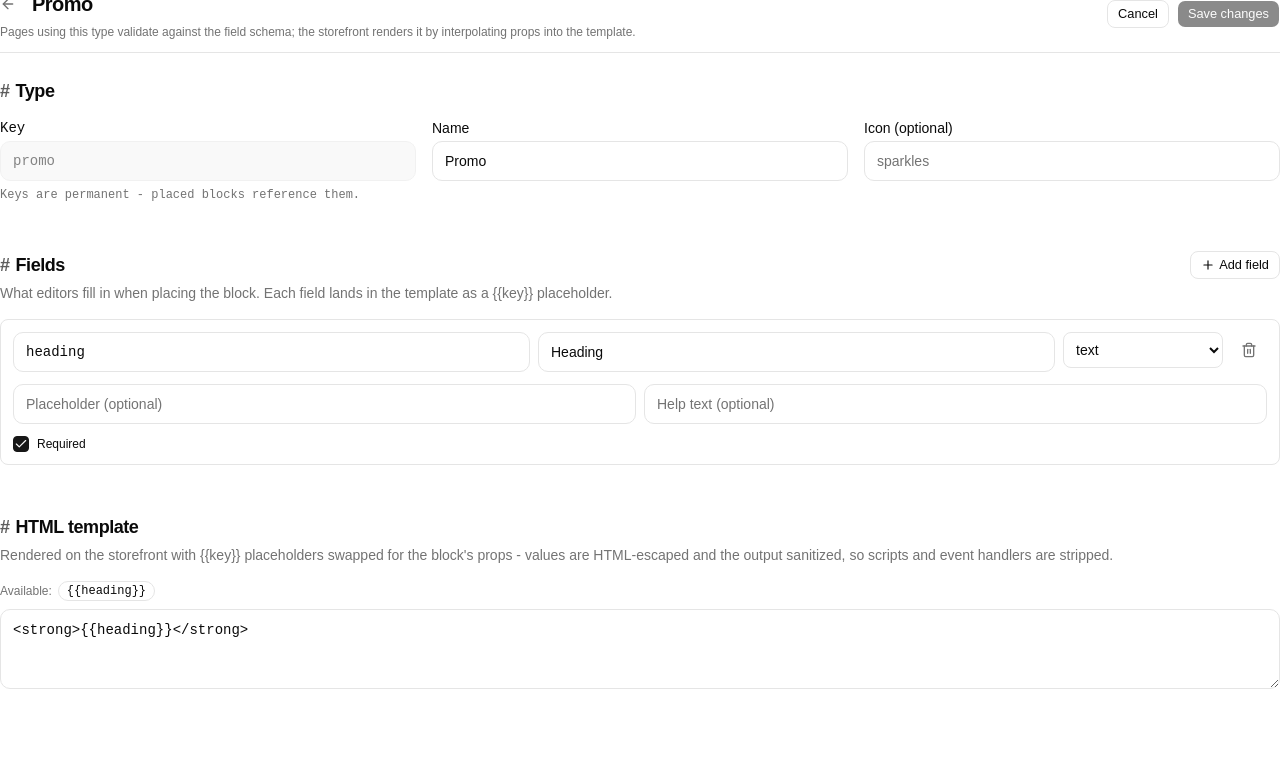
CmsBlockTypeDetail › stops a duplicate field key at the field
The width and height of the screenshot is (1280, 763).
Expected: the field named "Field 1 key" is shown, left=13, top=332, right=530, bottom=372
Click the button "Add field".
click(1235, 265)  # box left=1190, top=251, right=1279, bottom=279
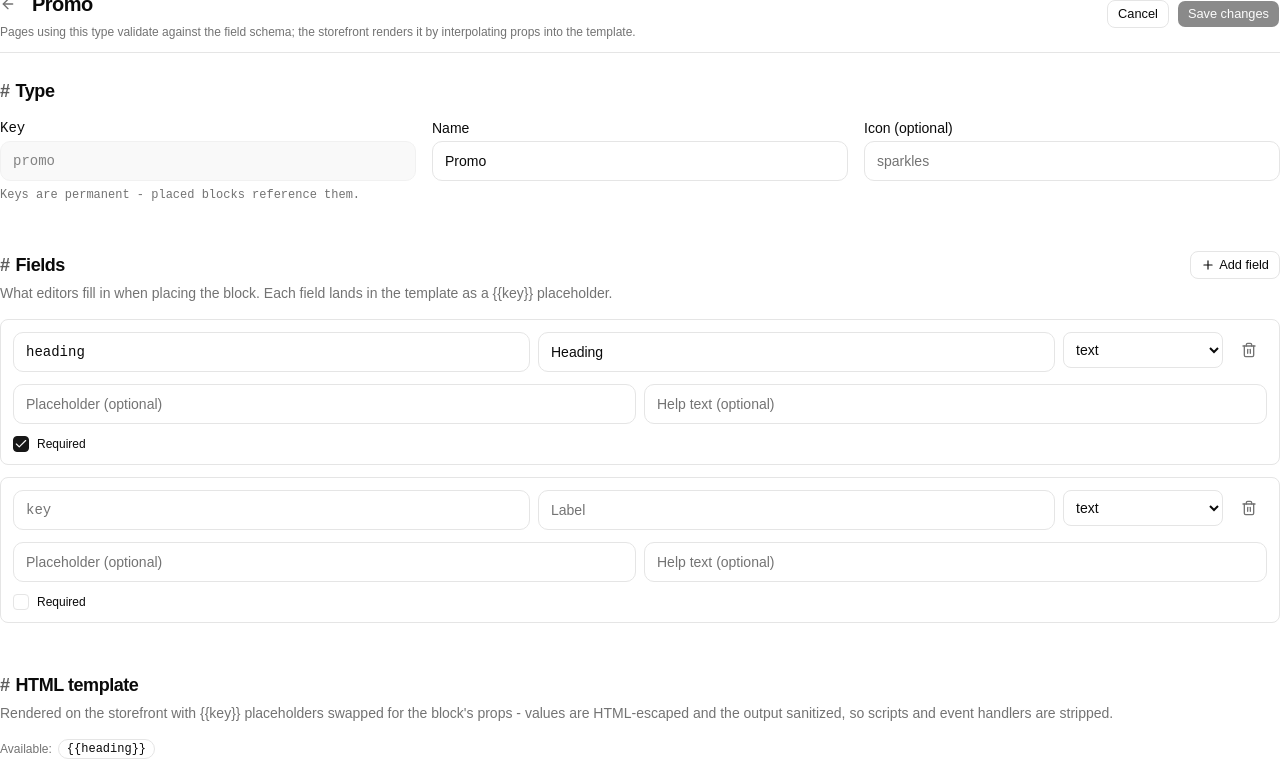
Type "heading" into the field named "Field 2 key".
click(272, 510); type("heading")  # box left=13, top=490, right=530, bottom=530
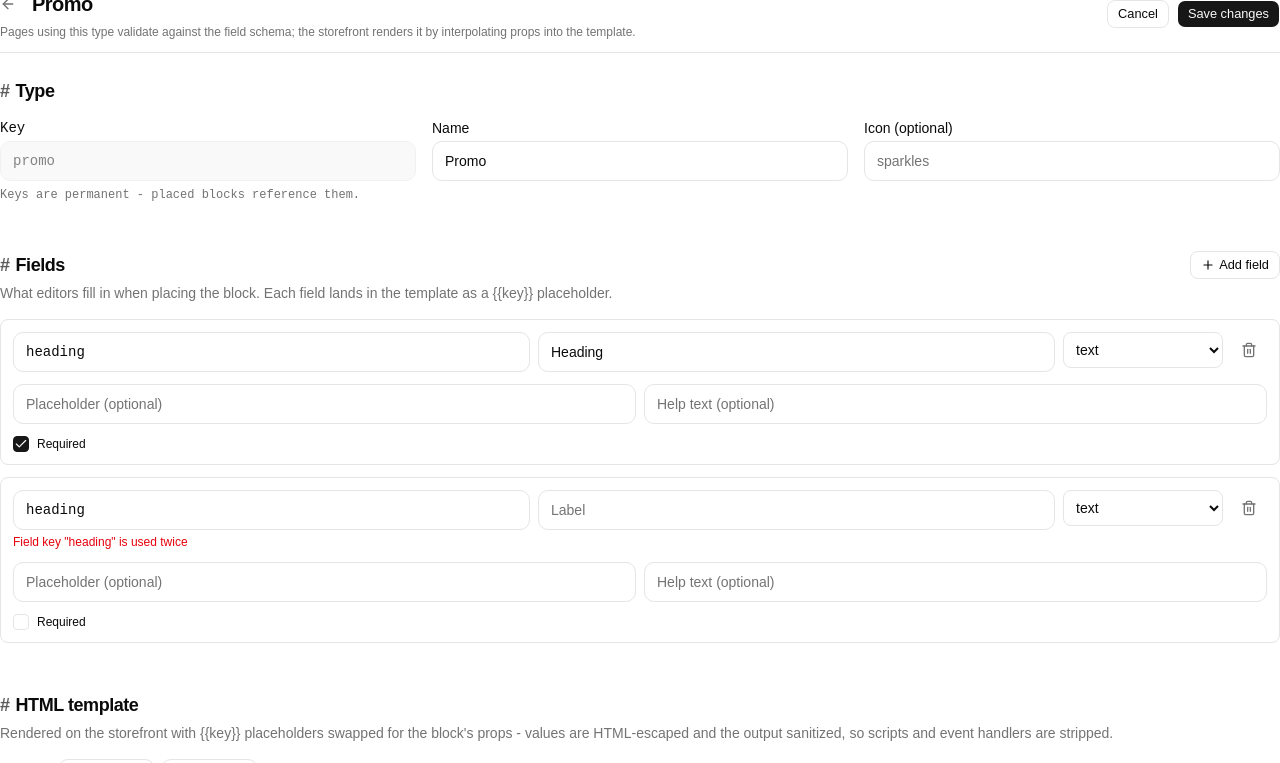
Expected: the text "Field key \"heading\" is used twice" is shown, left=13, top=535, right=188, bottom=549
Click the button "Save changes".
click(1228, 14)  # box left=1177, top=0, right=1279, bottom=28
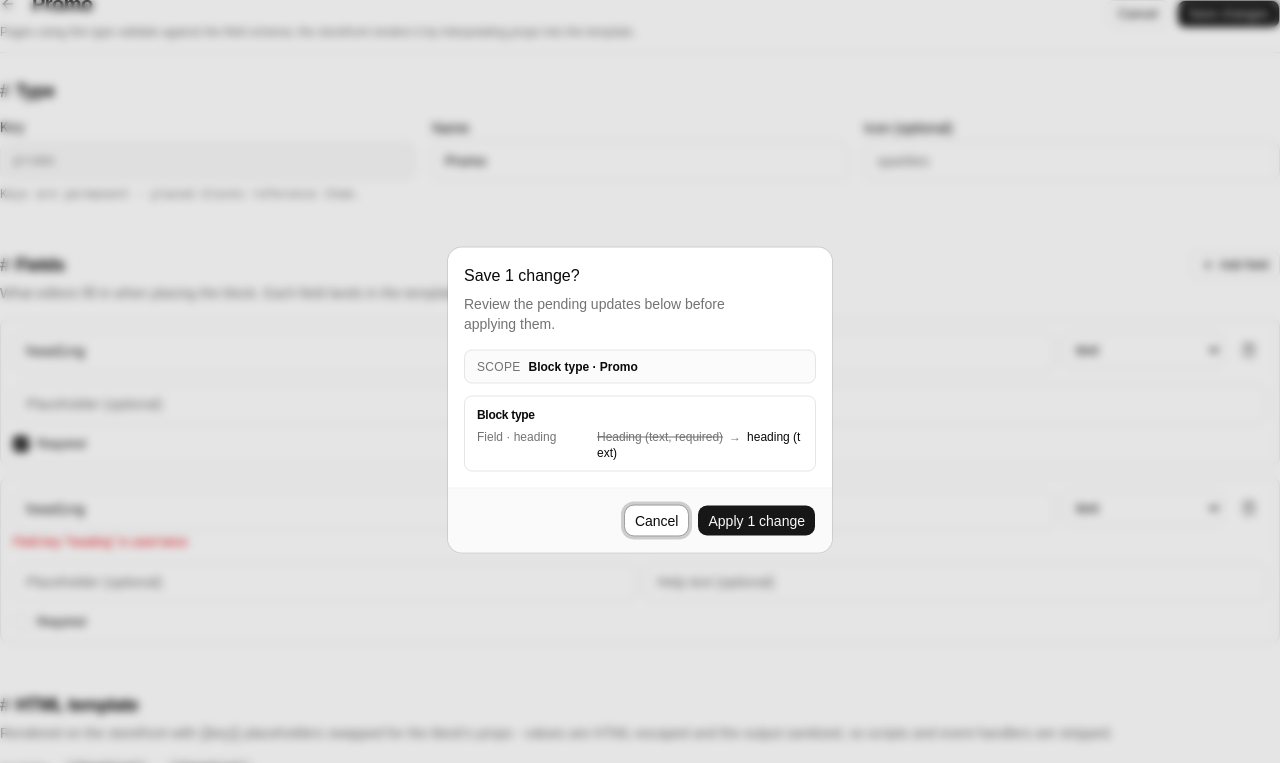
Click the button "Apply 1 change".
click(757, 520)  # box left=698, top=504, right=816, bottom=536
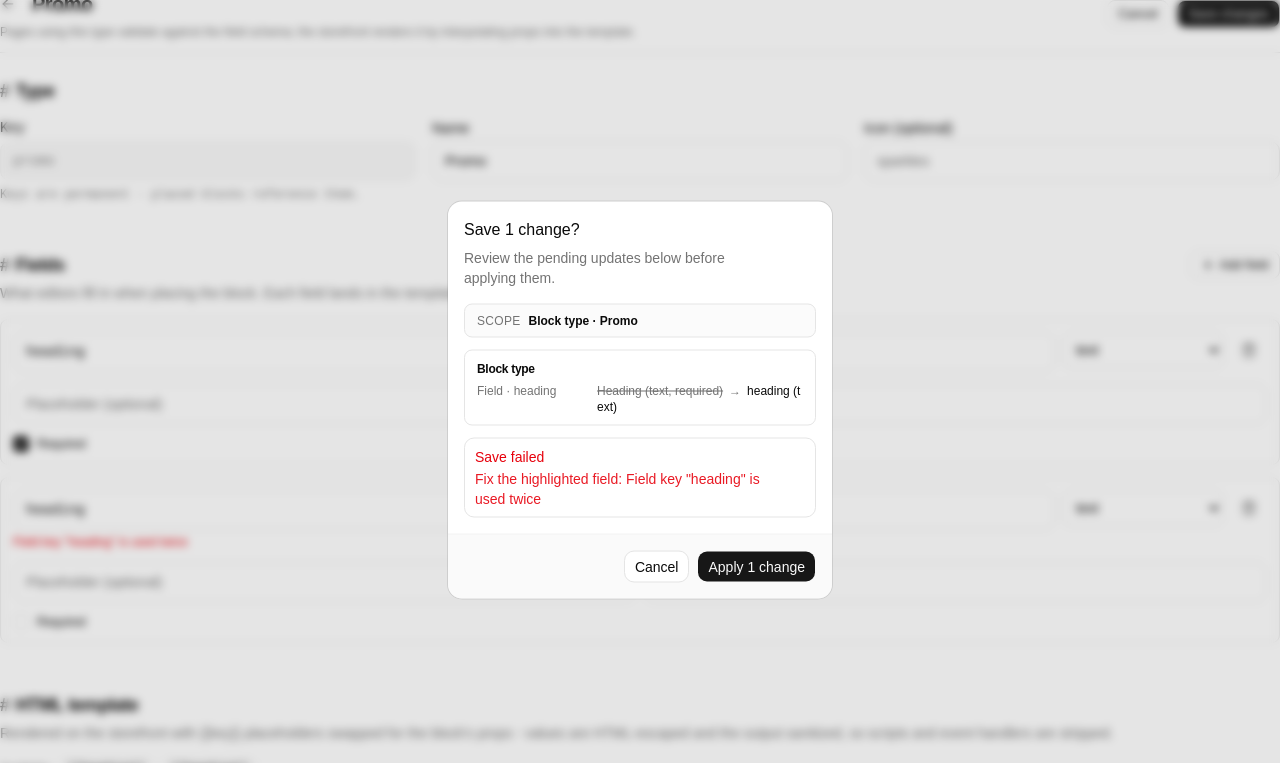
Expected: the text "Fix the highlighted field: Field key \"heading\" is used twice" is shown, left=475, top=468, right=805, bottom=508
